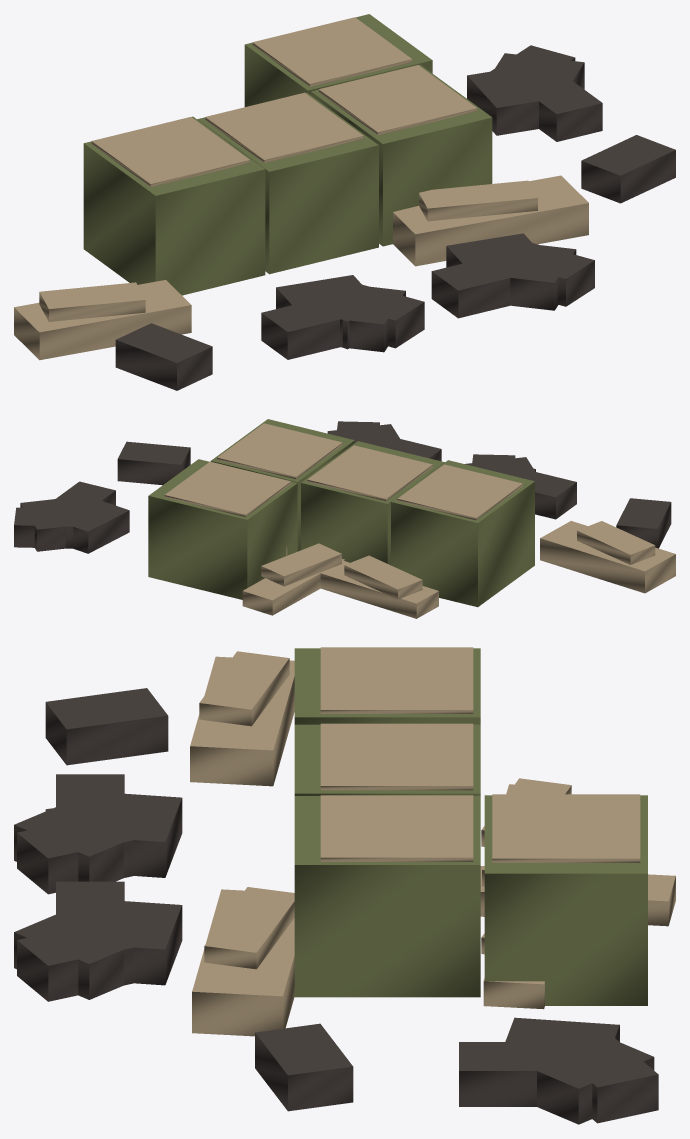
The model's file is SM_HescoRemateEspejo_v4_Red_e2_MuyDanado_LOD1.fbx.
The picture shows the model from 3 angles, top to bottom: view 1: azimuth 30°, elevation 25°; view 2: azimuth 150°, elevation 25°; view 3: azimuth 270°, elevation 25°; orthographic projection. The views are drawn at different scales.
Parts seen in each view (by area): view 1: SM_hesco_piezas_v38_LOD1; view 2: SM_hesco_piezas_v38_LOD1; view 3: SM_hesco_piezas_v38_LOD1.
Part boxes in pixels (x1=…): SM_hesco_piezas_v38_LOD1: x1=14, y1=14, x2=675, y2=390; SM_hesco_piezas_v38_LOD1: x1=14, y1=419, x2=675, y2=618; SM_hesco_piezas_v38_LOD1: x1=14, y1=647, x2=675, y2=1124.
Size of the model in its own units: 6.71 by 1.02 by 4.34.
